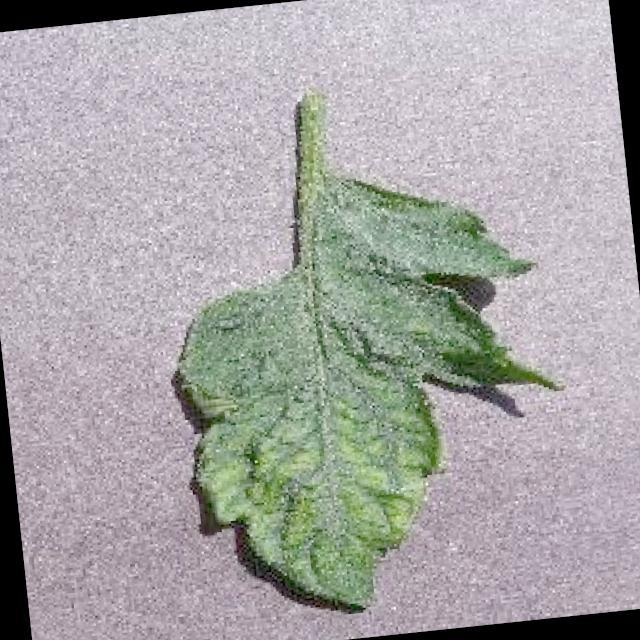Tomato mosaic virus leaf: (153, 158, 589, 624)
